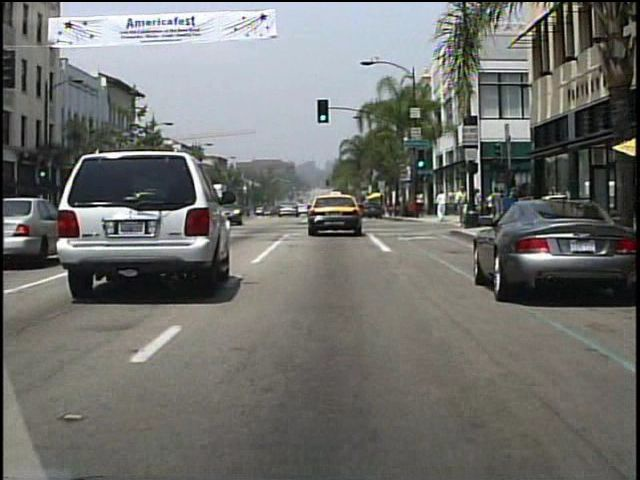person: (485, 187, 504, 227), (470, 187, 486, 227), (455, 185, 468, 227), (435, 189, 448, 222), (416, 191, 427, 217)
